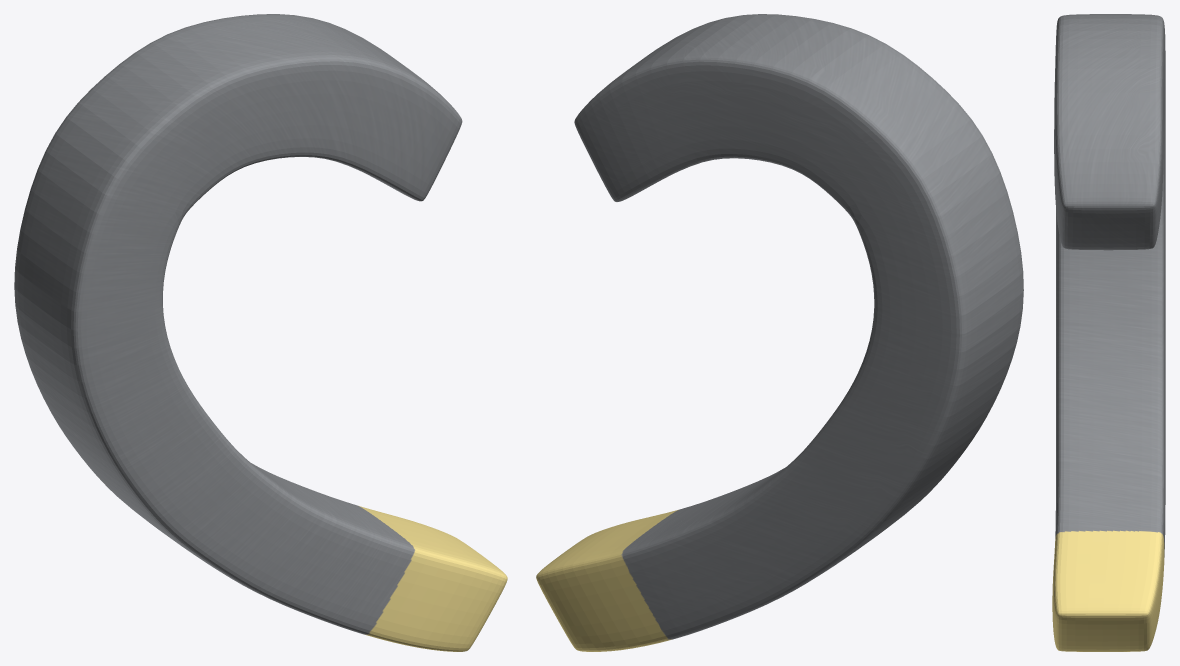
Rendered from Magnesia_01.fbx.
3 views of the same model, side by side, from view 1: azimuth 30°, elevation 25°; view 2: azimuth 150°, elevation 25°; view 3: azimuth 270°, elevation 25° (orthographic). The views are drawn at different scales.
Visible parts, largest first — view 1: Magnesia; view 2: Magnesia; view 3: Magnesia.
Part boxes in pixels (x1,y1,x2,y2): Magnesia: [14, 14, 507, 651]; Magnesia: [536, 14, 1023, 651]; Magnesia: [1052, 14, 1165, 651].
Size of the model in its own units: 877 by 1224 by 233.
